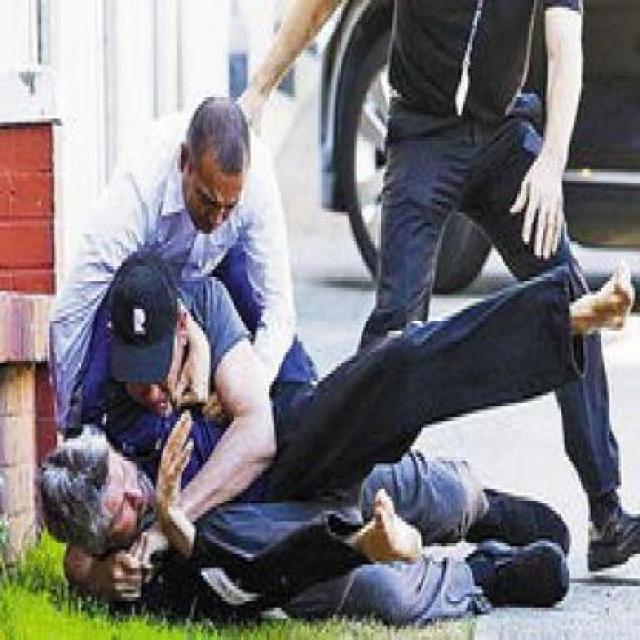fall: (56, 227, 589, 611)
